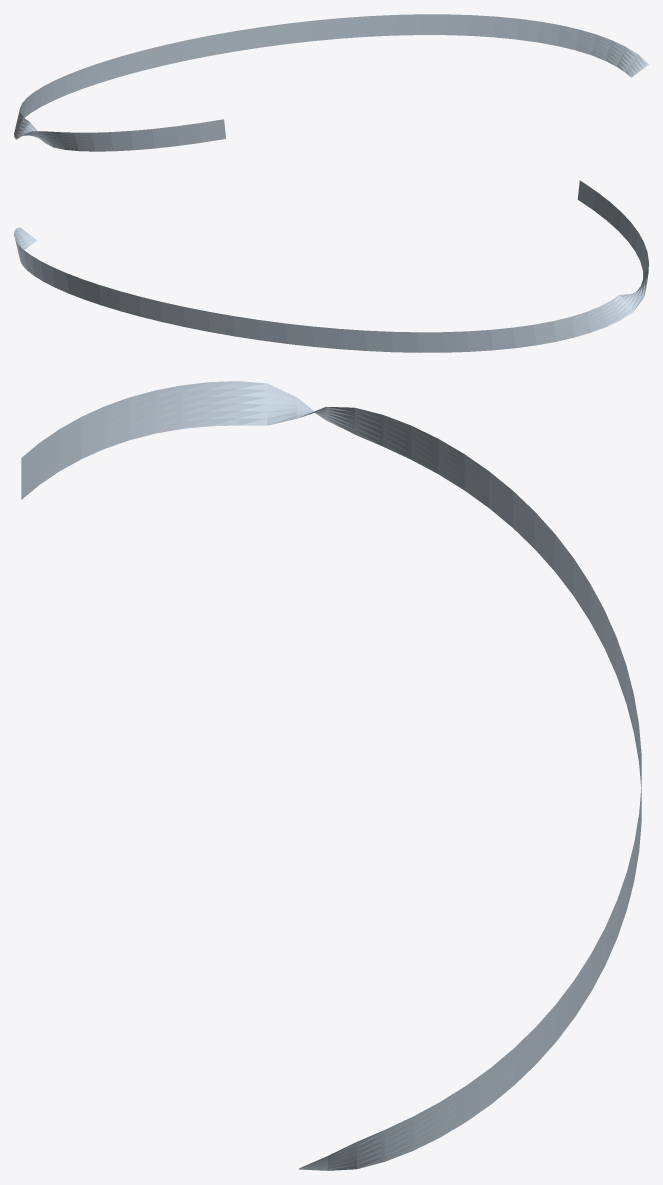
Rendered from 2084_WateryRebirth_Overall_OwnRebirthFlow_0.fbx.
The picture shows the model from 3 angles, top to bottom: view 1: azimuth 30°, elevation 25°; view 2: azimuth 150°, elevation 25°; view 3: azimuth 270°, elevation 25°; orthographic projection. The views are drawn at different scales.
Parts seen in each view (by area): view 1: PART_Hydro_OwnRebirthFlow_0; view 2: PART_Hydro_OwnRebirthFlow_0; view 3: PART_Hydro_OwnRebirthFlow_0.
Part boxes in pixels (x1,y1,x2,y2): PART_Hydro_OwnRebirthFlow_0: (14, 14, 648, 151); PART_Hydro_OwnRebirthFlow_0: (14, 180, 648, 352); PART_Hydro_OwnRebirthFlow_0: (21, 381, 641, 1170).
Size of the model in its own units: 227 by 43.55 by 97.65.
